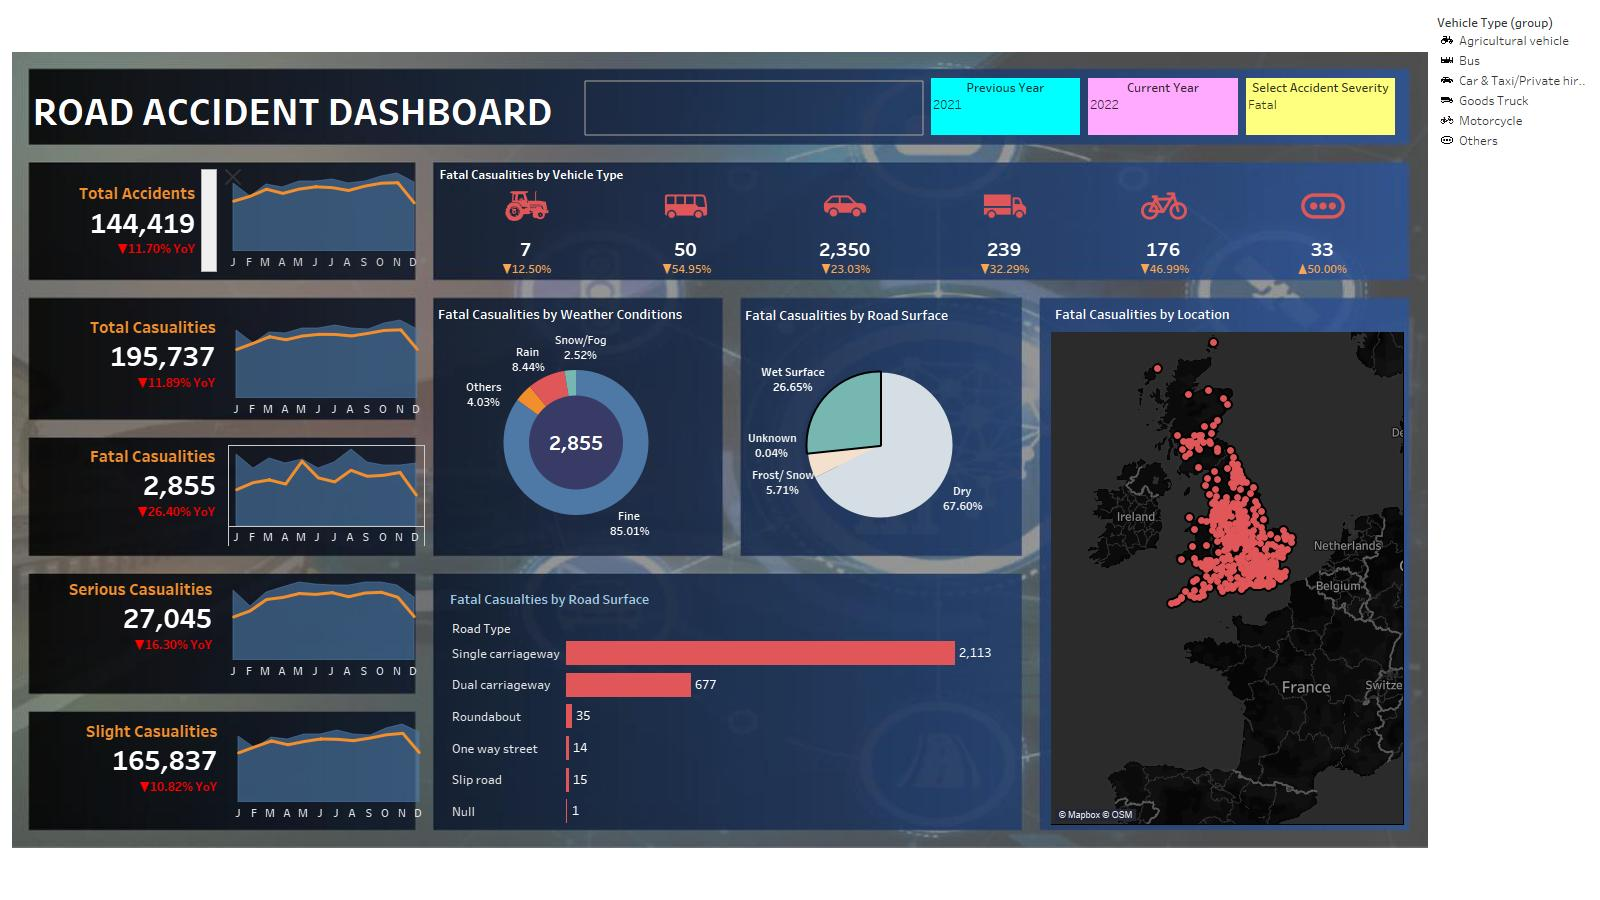

The page's visual inventory and layout, read from the dashboard file:
{"tool":"tableau","page":{"name":"Road Accidents Dashboard","canvas":[1600,900],"ordinal":0},"visuals":[{"type":"image","param":"//adm.suffolk.edu/uem/STD-RedirectedFolders/udm00860/Documents/ISOM 845/Backgrou","box":[8,8,1424,884]},{"type":"legend","title":"Vehicle type Images","param":"[federated.18bqn7k1ebhc9h134u4sn0i5hmxp].[Vehicle Type (group)]","box":[1432,8,160,146]},{"type":"text","box":[30,59,568,102]},{"type":"parameter","param":"[Parameters].[Current Year (copy)_539306077536174081]","box":[927,74,157.3,65]},{"type":"parameter","param":"[Parameters].[Parameter 1]","box":[1084.3,74,157.3,65]},{"type":"parameter","param":"[Parameters].[Parameter 2]","box":[1241.7,74,157.3,65]},{"type":"web page","param":"https://www.gov.uk/government/statistics/reported-road-casualties-in-great-brita","box":[585,79,339,55]},{"type":"text","box":[437,159,333,30]},{"type":"worksheet","title":"Total Accidents","mark":"Automatic","box":[16,165,205,110]},{"type":"worksheet","title":"Accident Sparkline","mark":"Automatic","rows":["CY Accidents (copy)_539306077574156291","Calculation_539306077537443842"],"cols":["Accident Date"],"box":[221,165,205,110]},{"type":"dashboard-object","box":[221,165,24,24]},{"type":"worksheet","title":"Vehicle type Images","mark":"Shape","box":[443,177,964,54.5]},{"type":"worksheet","title":"Vehicle type KPI","mark":"Automatic","box":[443,231.5,964,54.5]},{"type":"worksheet","title":"Weather Conditions","mark":"Pie","rows":["Calculation_539306077735632918","Calculation_539306077735690264"],"box":[434,299,284,254]},{"type":"worksheet","title":"By Location","mark":"Automatic","rows":["Latitude"],"cols":["Longitude"],"box":[1051,299,352,525]},{"type":"worksheet","title":"Road Surface","mark":"Pie","rows":["Calculation_539306077735632918","Calculation_539306077735690264"],"box":[741,300,278,257]},{"type":"worksheet","title":"Total Casualities","mark":"Automatic","box":[19,312,205,110]},{"type":"worksheet","title":"Total Casualities Sparkline","mark":"Automatic","rows":["CY Casualities (copy)_539306077578895366","Calculation_539306077577936901"],"cols":["Accident Date"],"box":[224,312,205,110]},{"type":"worksheet","title":"Fatal Casualities","mark":"Automatic","box":[19,441,205,110]},{"type":"worksheet","title":"Fatal Casualities Sparkline","mark":"Automatic","rows":["CY Fatal Casualities (copy)_539306077580877834","Calculation_539306077579931656"],"cols":["Accident Date"],"box":[224,441,205,110]},{"type":"worksheet","title":"Serious Casualities","mark":"Automatic","box":[16,574,205,110]},{"type":"worksheet","title":"Serious Casualities Sparkline","mark":"Automatic","rows":["PY Fatal Casualities (copy)_539306077581905934","CY Fatal Casualities (copy)_539306077581733901"],"cols":["Accident Date"],"box":[221,574,205,110]},{"type":"worksheet","title":"Road Type","mark":"Automatic","rows":["Road_Type"],"cols":["Calculation_539306077577936901"],"box":[446,584,570,243]},{"type":"worksheet","title":"Slight Casualities","mark":"Automatic","box":[21,716,205,110]},{"type":"worksheet","title":"Slight Casualities Sparkline","mark":"Automatic","rows":["PY Slight Casualities (copy)_539306077583110162","CY Serious Casualities (copy)_539306077582508048"],"cols":["Accident Date"],"box":[226,716,205,110]}]}

Visuals, with their boxes in screenshot pixels (x1, y1, x2, y2), scaled from the page's 1600x900 canvas onto the 1600x900 screenshot:
image: <box>8,8,1432,892</box>
"Vehicle type Images" legend: <box>1432,8,1592,154</box>
text: <box>30,59,598,161</box>
parameter: <box>927,74,1084,139</box>
parameter: <box>1084,74,1242,139</box>
parameter: <box>1242,74,1399,139</box>
web page: <box>585,79,924,134</box>
text: <box>437,159,770,189</box>
"Total Accidents" worksheet: <box>16,165,221,275</box>
"Accident Sparkline" worksheet: <box>221,165,426,275</box>
dashboard-object: <box>221,165,245,189</box>
"Vehicle type Images" worksheet (Shape marks): <box>443,177,1407,232</box>
"Vehicle type KPI" worksheet: <box>443,232,1407,286</box>
"Weather Conditions" worksheet (Pie marks): <box>434,299,718,553</box>
"By Location" worksheet: <box>1051,299,1403,824</box>
"Road Surface" worksheet (Pie marks): <box>741,300,1019,557</box>
"Total Casualities" worksheet: <box>19,312,224,422</box>
"Total Casualities Sparkline" worksheet: <box>224,312,429,422</box>
"Fatal Casualities" worksheet: <box>19,441,224,551</box>
"Fatal Casualities Sparkline" worksheet: <box>224,441,429,551</box>
"Serious Casualities" worksheet: <box>16,574,221,684</box>
"Serious Casualities Sparkline" worksheet: <box>221,574,426,684</box>
"Road Type" worksheet: <box>446,584,1016,827</box>
"Slight Casualities" worksheet: <box>21,716,226,826</box>
"Slight Casualities Sparkline" worksheet: <box>226,716,431,826</box>
